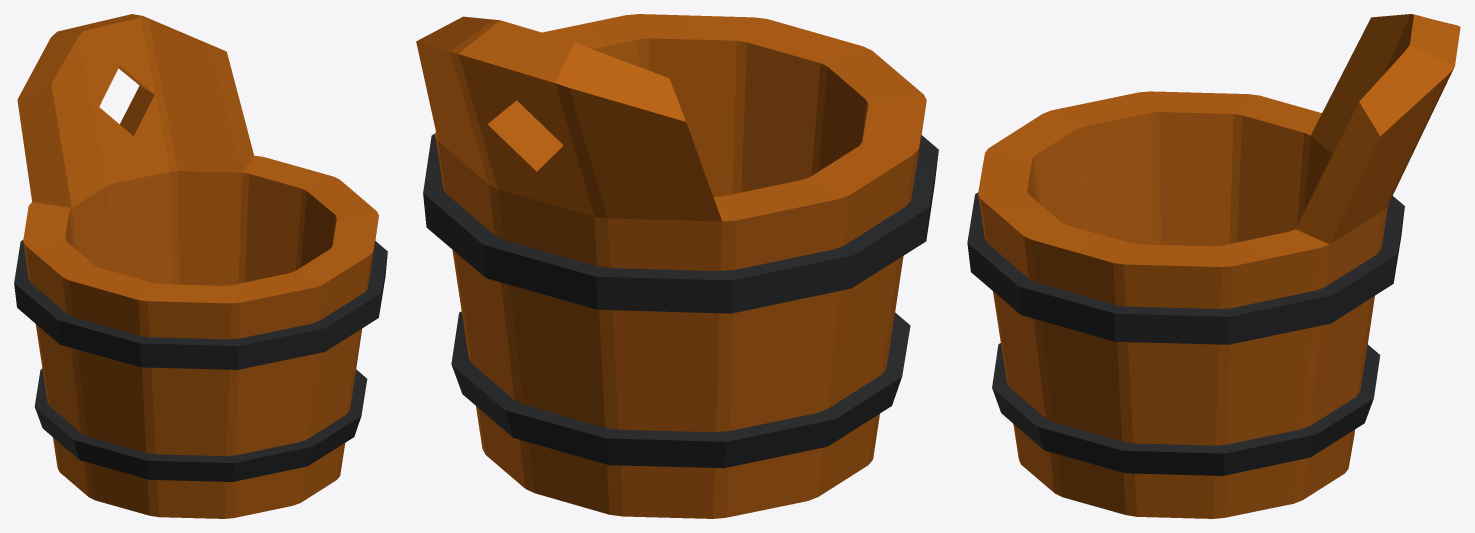
Rendered from Bucket_3.fbx.
3 views of the same model, side by side, from view 1: azimuth 30°, elevation 25°; view 2: azimuth 150°, elevation 25°; view 3: azimuth 270°, elevation 25° (orthographic). The views are drawn at different scales.
Visible parts, largest first — view 1: Bucket_3; view 2: Bucket_3; view 3: Bucket_3.
Boxes of the visible parts, x1=… form: Bucket_3: x1=14, y1=14, x2=387, y2=518; Bucket_3: x1=416, y1=14, x2=938, y2=518; Bucket_3: x1=967, y1=14, x2=1460, y2=518.
Bounding box in the file's own units: 18.78 × 20.08 × 21.21.
